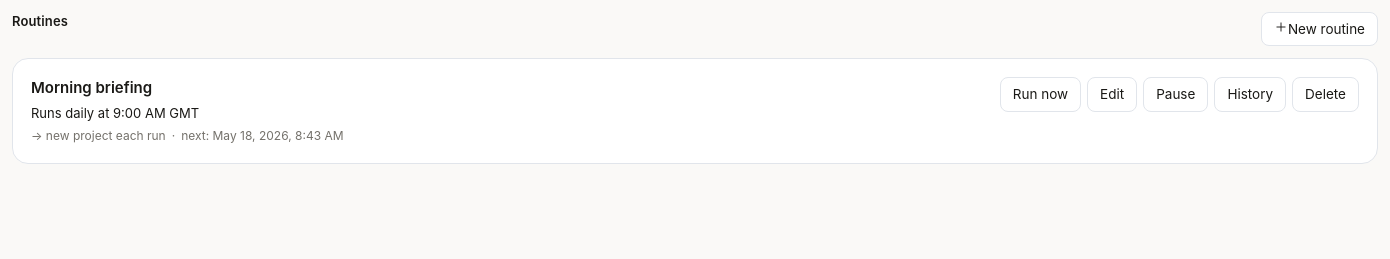
RoutinesSection › runs a routine now and loads its history
Click the button "Run now": (1040, 94) 1000,77 -> 1081,112
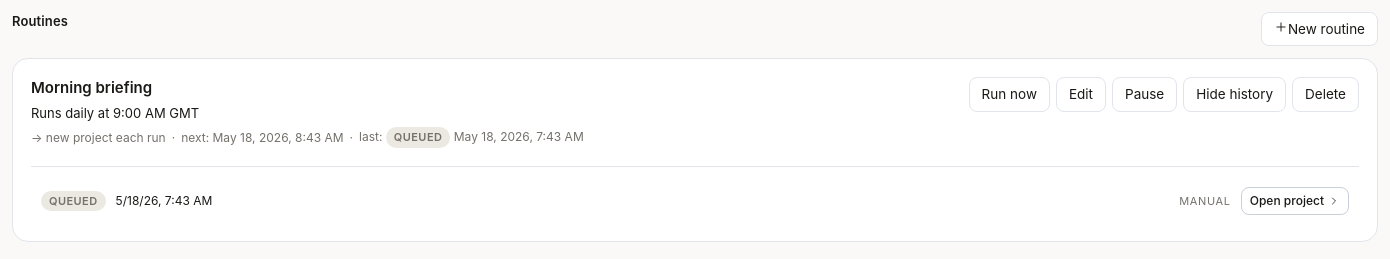
Expected: the button "Hide history" is shown, 1183,77 -> 1286,112
Expected: the text "manual" is shown, 1179,192 -> 1231,209
Expected: the button "Open project" is shown, 1241,187 -> 1349,215
